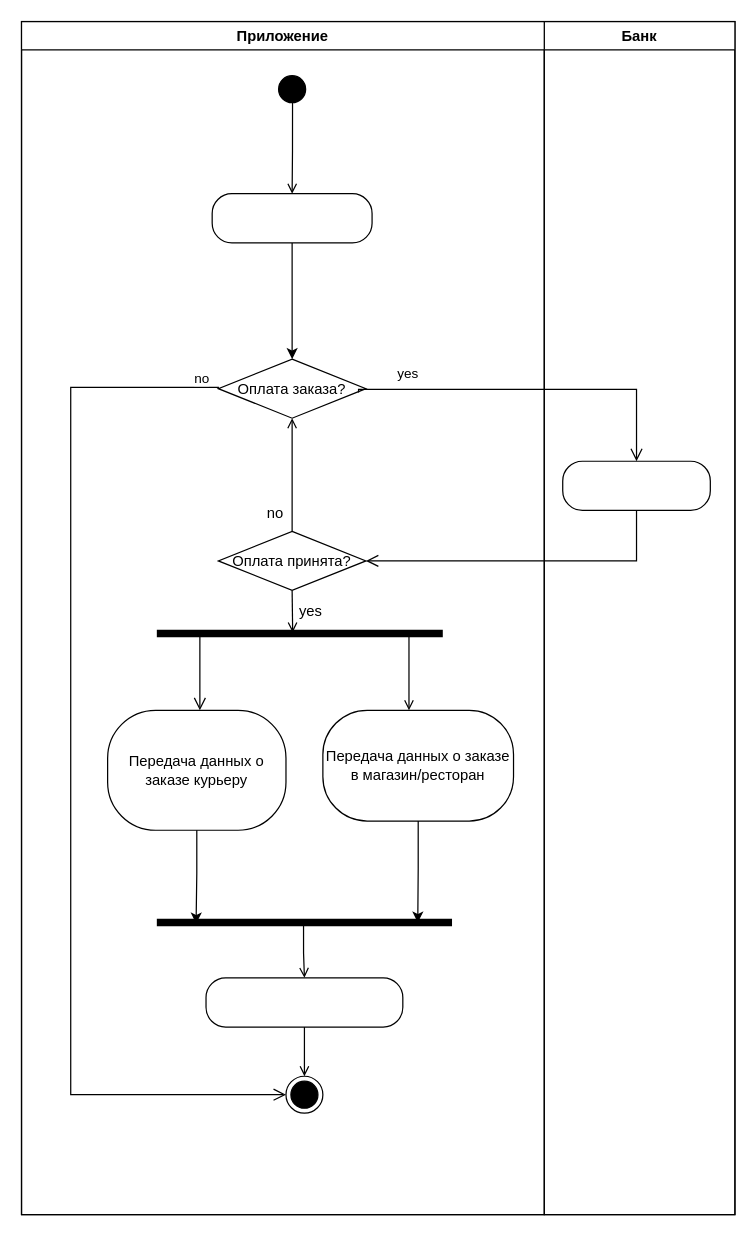
Image size: 756x1236. Some labels were removed from this diagram. The centre of each missing label's shape, as x and y in pixels:
"Оплата заказа" belongs at [635,485].
"Создание заказа" belongs at [291,217].
"Статус заказа: оформлен" belongs at [304,1002].
